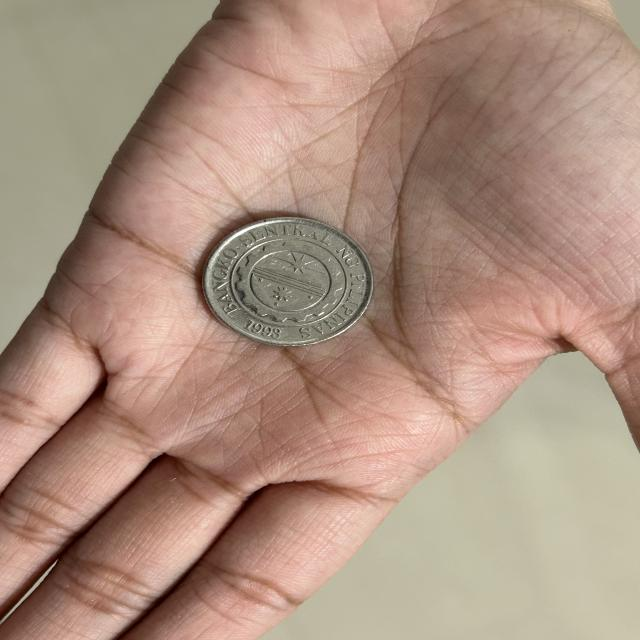1_Old_Back: (228, 239, 351, 328)
